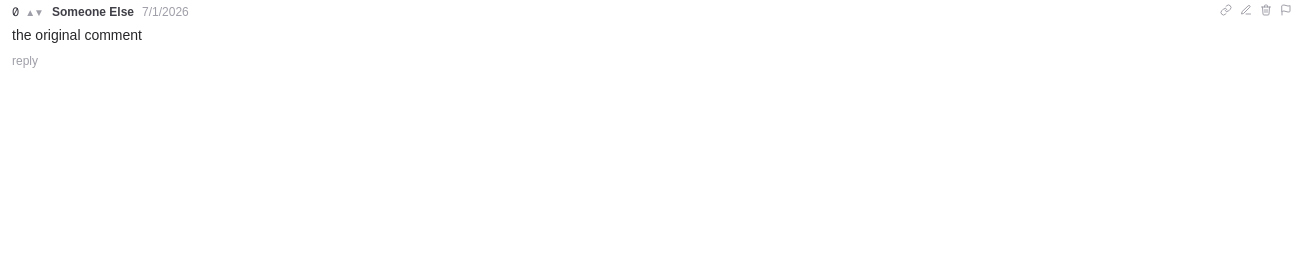
Test: CommentNode reply mention wiring › submits the admin post-as signer, and clears it after the send
Click the button "reply" at [25, 61], box [12, 53, 38, 69]
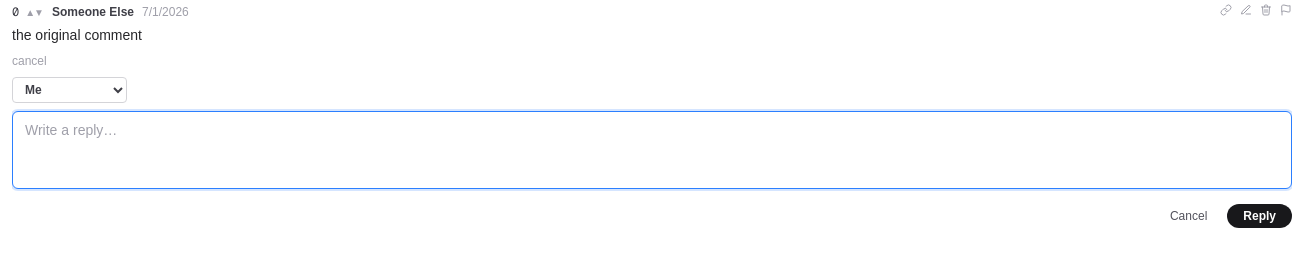
Select "Alice Nguyen" in the dropdown at [70, 90], box [12, 77, 127, 103]
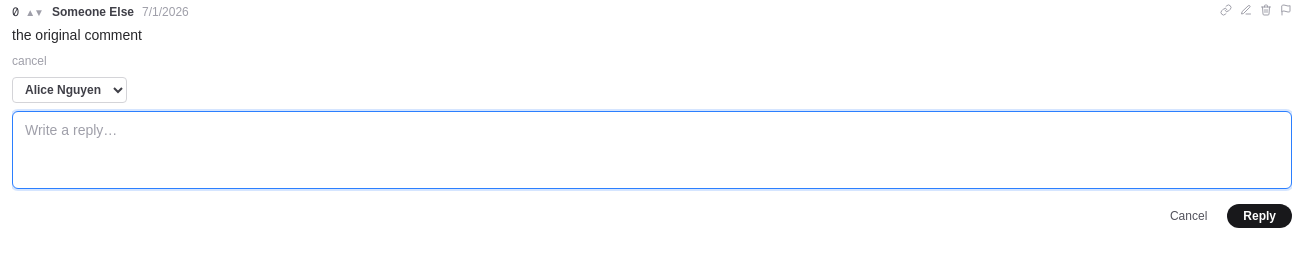
Type "agreed @Ali" into the text box at [652, 150], box [12, 111, 1292, 189]
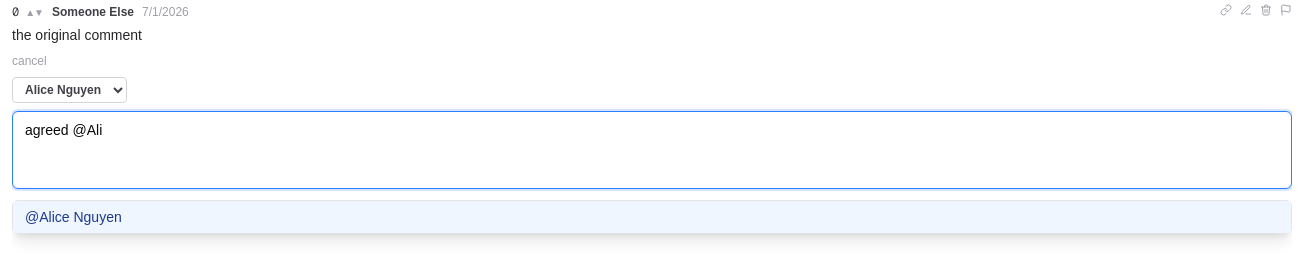
Press the mouse on the option "@Alice Nguyen" at [73, 217], box [13, 201, 1291, 233]
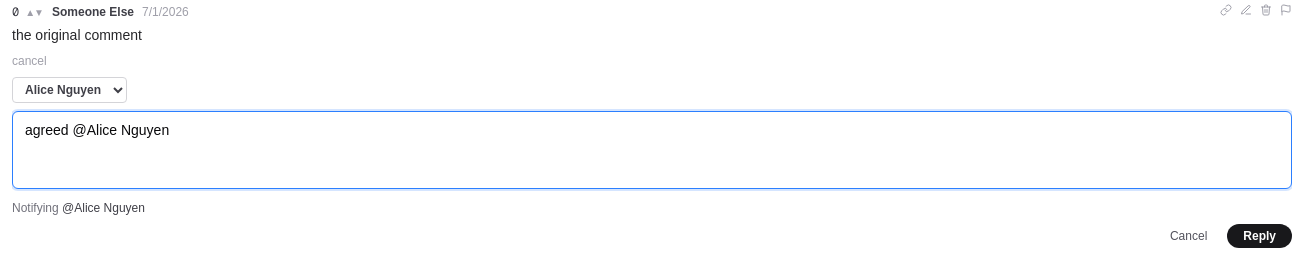
Click the button "Reply" at [1260, 236], box [1227, 224, 1292, 248]
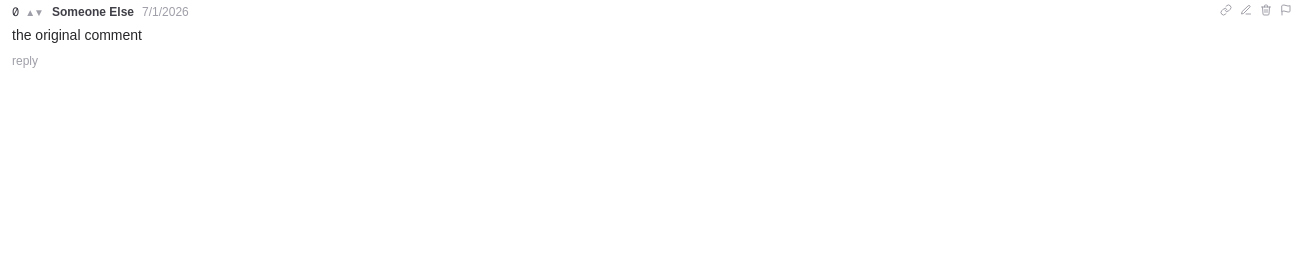
Click the button "reply" at [25, 61], box [12, 53, 38, 69]
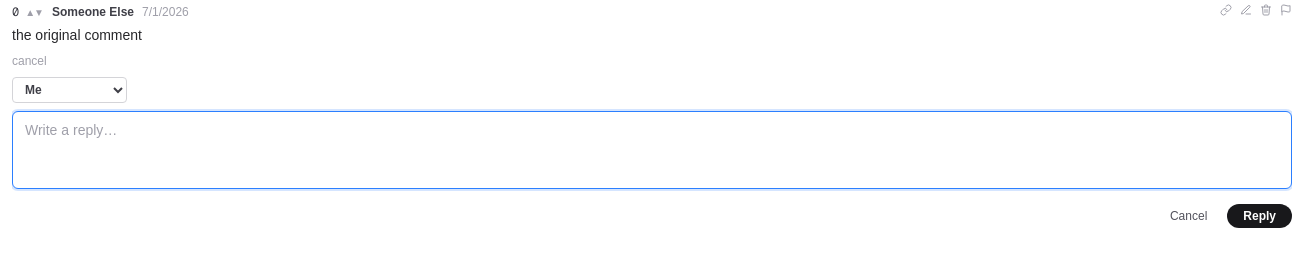
Now the dropdown shows "Me", box [12, 77, 127, 103]
